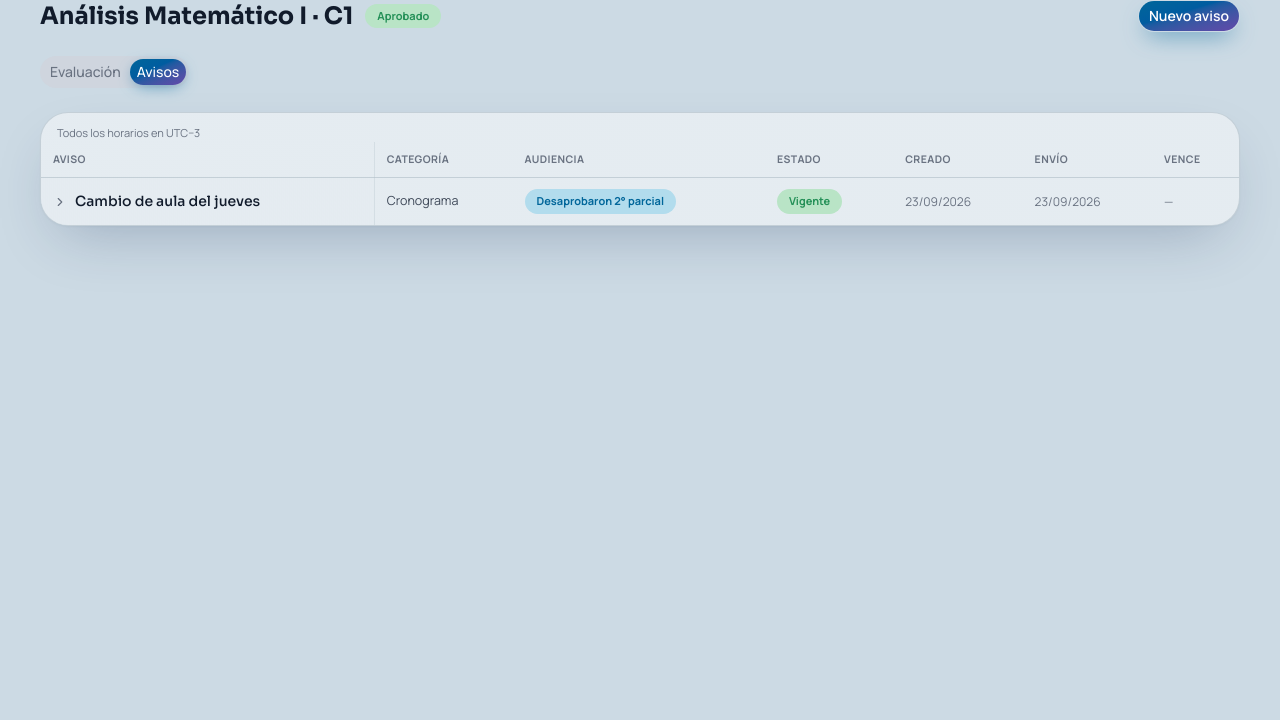
Test: DocenteComisionDetalle › tocar el pill de audiencia abre los destinatarios y no despliega la fila
What coordinates should you click on to do the following:
click the button with aria-label "Ver destinatarios: Desaprobaron 2° parcial"
I would click on:
 (600, 202)
Its box is [524, 189, 676, 214].
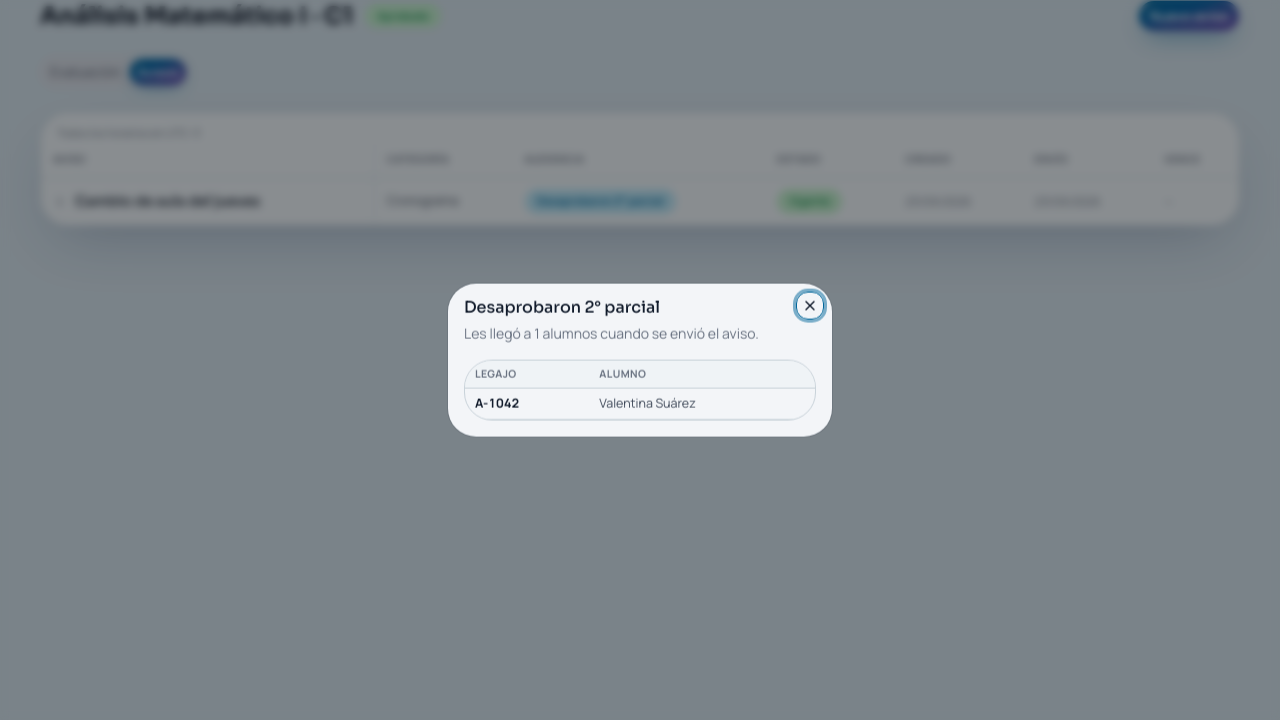
Result: the text "A-1042" is shown at [465, 388, 589, 419]
Result: the text "Valentina Suárez" is shown at [589, 388, 815, 419]
